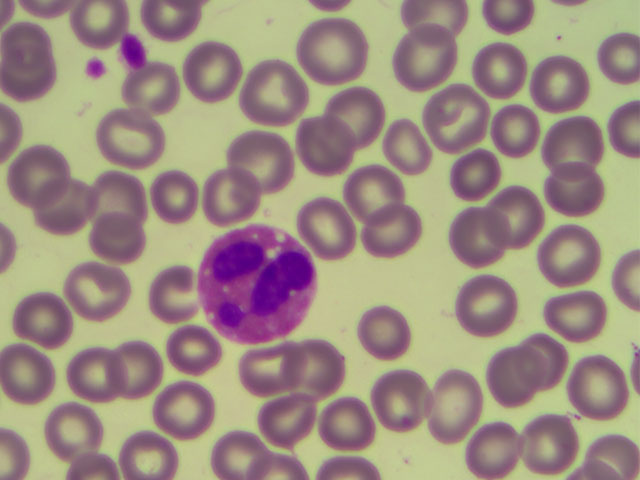Platelets: (197, 221, 317, 340), (118, 32, 149, 67), (83, 52, 106, 82)
RBC: (97, 102, 170, 173), (128, 69, 201, 140), (2, 21, 67, 97), (115, 416, 178, 480), (209, 416, 272, 480), (456, 416, 519, 480), (180, 39, 243, 102), (242, 60, 305, 123), (301, 16, 364, 79), (324, 76, 387, 139), (291, 117, 354, 180), (370, 117, 433, 180), (348, 157, 411, 220), (366, 200, 429, 263), (295, 201, 358, 264), (235, 129, 298, 192), (198, 172, 261, 235), (145, 166, 208, 229), (88, 169, 151, 232), (88, 205, 151, 268), (33, 182, 96, 245), (11, 142, 74, 205), (70, 253, 133, 316), (15, 283, 78, 346), (54, 343, 117, 406), (107, 337, 170, 400), (160, 326, 223, 389), (145, 259, 208, 322), (156, 379, 219, 442), (47, 401, 110, 464), (255, 396, 318, 459), (282, 336, 345, 399), (238, 334, 301, 397), (353, 304, 416, 367), (361, 376, 424, 439), (322, 394, 385, 457), (431, 374, 494, 437), (480, 343, 543, 406), (509, 331, 572, 394), (450, 272, 513, 335), (440, 209, 503, 272), (473, 191, 536, 254), (442, 143, 505, 206), (427, 90, 490, 153), (396, 30, 459, 93), (469, 37, 532, 100), (491, 92, 554, 155), (514, 54, 577, 117), (551, 105, 614, 168), (542, 160, 605, 223), (538, 219, 601, 282), (555, 277, 618, 340), (559, 358, 622, 421), (521, 410, 584, 473), (1, 345, 63, 408), (593, 27, 640, 87)
